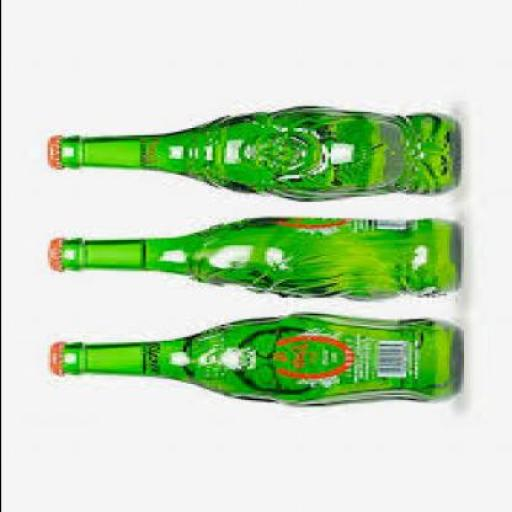glass: (56, 104, 454, 202), (58, 312, 454, 404), (58, 216, 456, 297)
metal: (43, 234, 58, 269), (43, 136, 55, 168), (43, 341, 55, 372)
